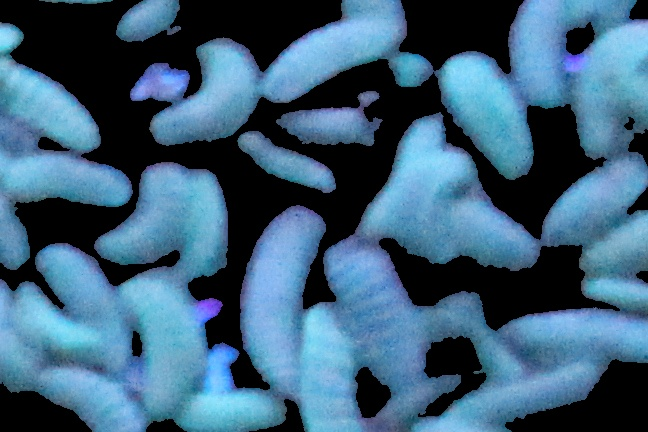larvae: (238, 205, 319, 390), (327, 234, 418, 393), (126, 266, 205, 424), (439, 49, 532, 183), (38, 240, 136, 367), (151, 36, 260, 144), (263, 19, 393, 102), (568, 20, 648, 154), (502, 301, 648, 373), (541, 155, 646, 245), (298, 296, 366, 430), (96, 162, 182, 266), (1, 60, 102, 146), (466, 360, 608, 420), (1, 153, 139, 213), (33, 369, 155, 432), (13, 281, 104, 365), (241, 132, 343, 194), (511, 1, 568, 108), (182, 168, 227, 279), (174, 389, 287, 432), (574, 221, 648, 278), (574, 270, 648, 312), (105, 1, 184, 37)
